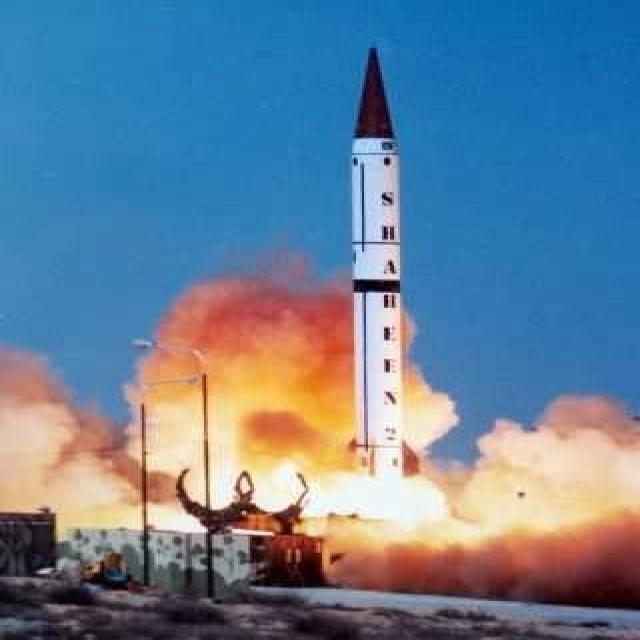missile: (344, 40, 427, 480)
